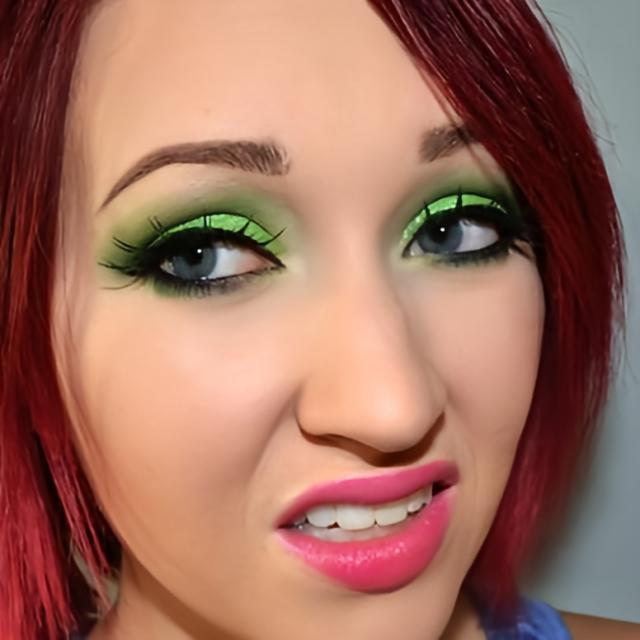disgust: (51, 0, 548, 640)
